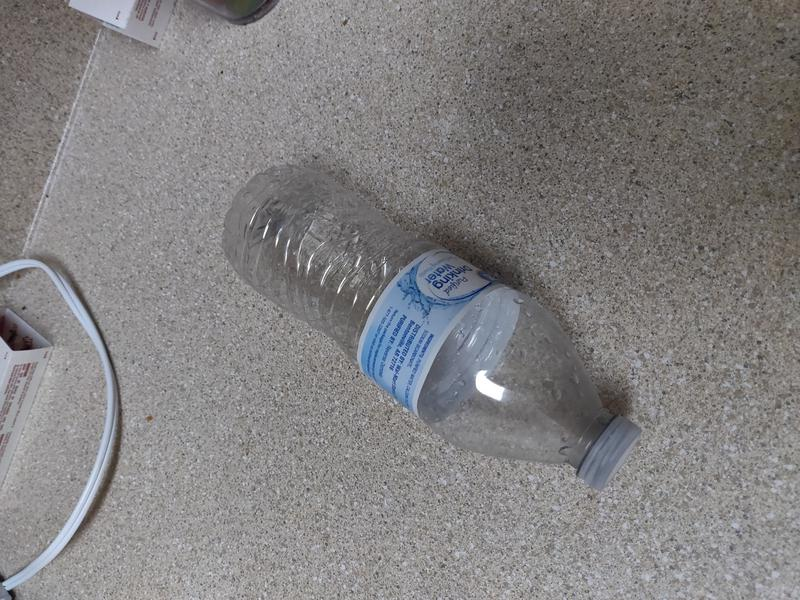bottle: (220, 161, 644, 493)
